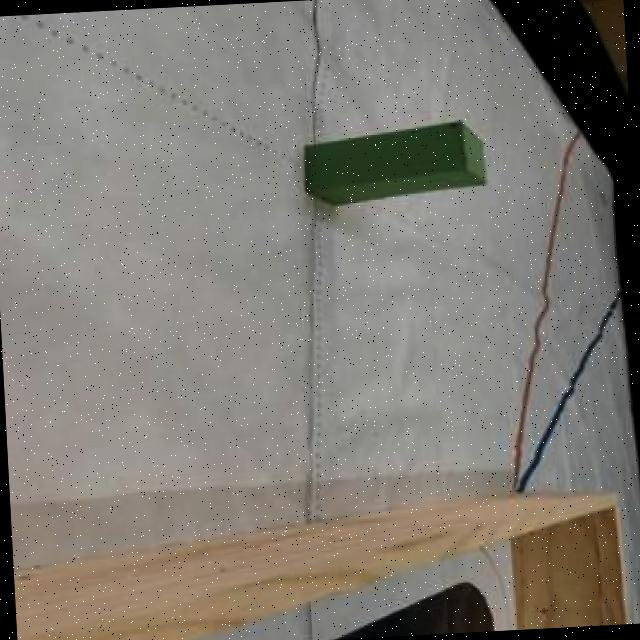greenbox: (302, 120, 488, 205)
